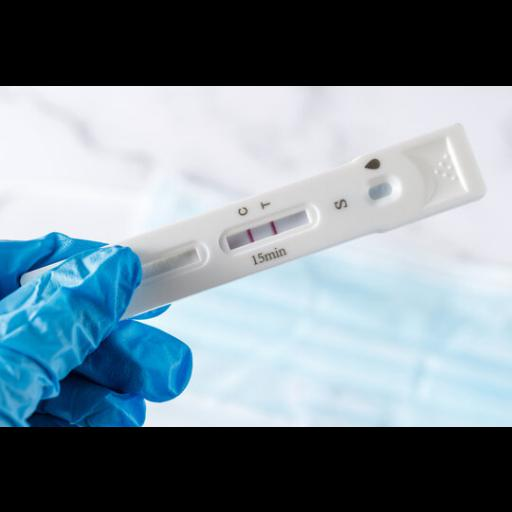Pos: (88, 119, 490, 322)
